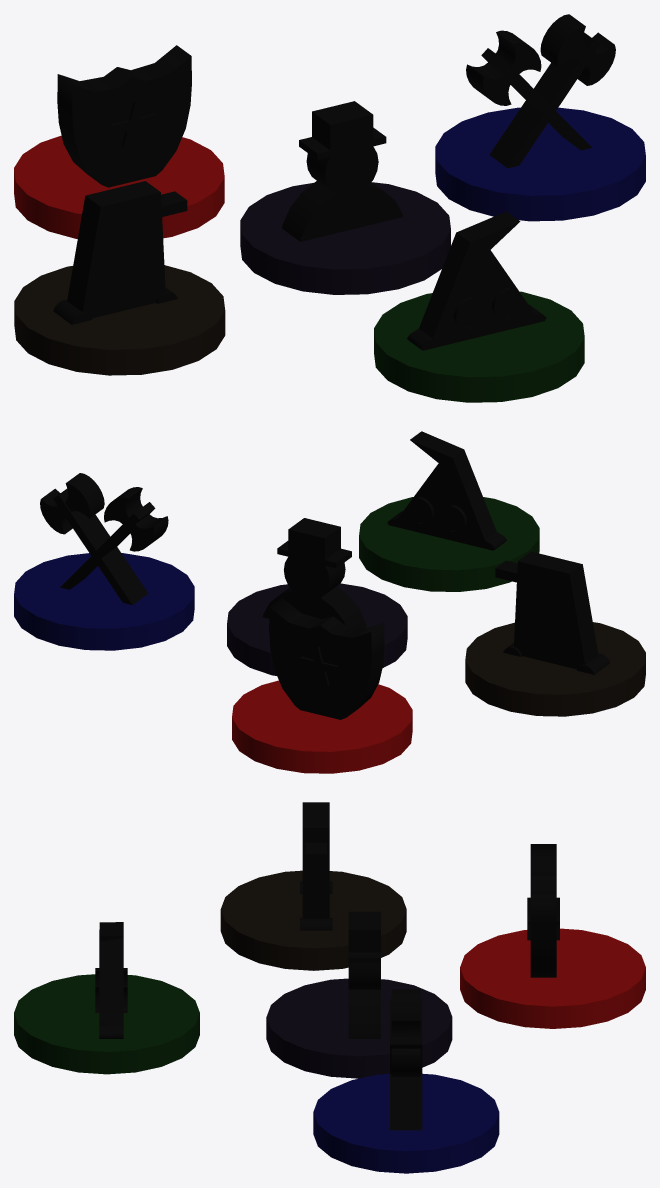
The model's file is PrintStanding.obj.
3 views of the same model, one above another, from view 1: azimuth 30°, elevation 25°; view 2: azimuth 150°, elevation 25°; view 3: azimuth 270°, elevation 25° (orthographic). The views are drawn at different scales.
Visible parts, largest first — view 1: WarriorBack WarriorGroup, DipGroup DipToken, SeigeToken SeigeGroup, DipToken3 WizardGroup, pCylinder11 ClericGroup, SeigeGroup SeigeIcon, WarriorGroup WarriorIcon, ClericGroup ClericBack, DiplomatIcon DipGroup, WizardIcon; view 2: WarriorBack WarriorGroup, ClericGroup ClericBack, SeigeToken SeigeGroup, DipToken3 WizardGroup, pCylinder11 ClericGroup, SeigeGroup SeigeIcon, WarriorGroup WarriorIcon, WizardIcon, DiplomatIcon DipGroup, DipGroup DipToken; view 3: ClericGroup ClericBack, WarriorBack WarriorGroup, DipToken3 WizardGroup, SeigeToken SeigeGroup, DipGroup DipToken, WarriorGroup WarriorIcon, DiplomatIcon DipGroup, pCylinder11 ClericGroup, SeigeGroup SeigeIcon, WizardIcon.
Boxes of the visible parts, box(x1,y1,x2,y2) form: WarriorBack WarriorGroup: box(435, 107, 645, 221); DipGroup DipToken: box(240, 182, 450, 294); SeigeToken SeigeGroup: box(14, 265, 225, 375); DipToken3 WizardGroup: box(374, 291, 584, 402); pCylinder11 ClericGroup: box(57, 45, 191, 187); SeigeGroup SeigeIcon: box(53, 181, 187, 324); WarriorGroup WarriorIcon: box(466, 14, 615, 168); ClericGroup ClericBack: box(14, 135, 224, 238); DiplomatIcon DipGroup: box(282, 101, 403, 241); WizardIcon: box(407, 211, 546, 350); WarriorBack WarriorGroup: box(14, 553, 194, 650); ClericGroup ClericBack: box(232, 680, 412, 773); SeigeToken SeigeGroup: box(465, 622, 645, 716); DipToken3 WizardGroup: box(359, 497, 539, 591); pCylinder11 ClericGroup: box(269, 598, 384, 719); SeigeGroup SeigeIcon: box(495, 551, 609, 674); WarriorGroup WarriorIcon: box(40, 473, 168, 604); WizardIcon: box(387, 431, 506, 550); DiplomatIcon DipGroup: box(262, 518, 366, 628); DipGroup DipToken: box(227, 583, 407, 675); ClericGroup ClericBack: box(460, 928, 645, 1028); WarriorBack WarriorGroup: box(313, 1073, 499, 1173); DipToken3 WizardGroup: box(14, 974, 199, 1074); SeigeToken SeigeGroup: box(220, 870, 406, 970); DipGroup DipToken: box(266, 978, 452, 1078); WarriorGroup WarriorIcon: box(390, 989, 422, 1130); DiplomatIcon DipGroup: box(348, 911, 380, 1038); pCylinder11 ClericGroup: box(527, 844, 559, 977); SeigeGroup SeigeIcon: box(300, 802, 332, 930); WizardIcon: box(95, 922, 127, 1038).
Size of the model in its own units: 6.14 by 1.32 by 5.83.
